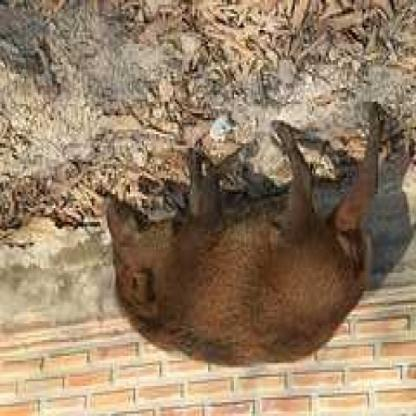boar: (71, 102, 415, 370)
